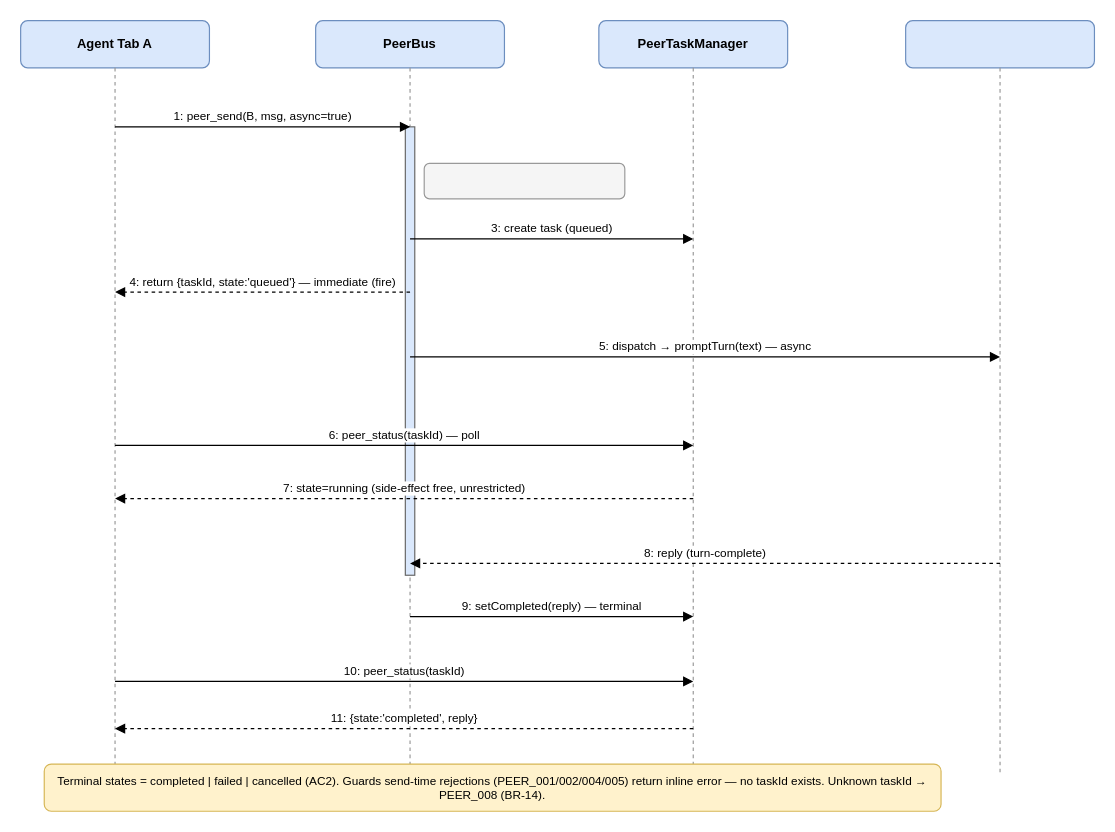
The diagram is 1115 pixels wide and 832 high, and some of its shapes have lost their labels. Here are the shapes that lost their labels. From the top down, the centre of each, then its label:
the point at 999,43: Orchestrator Tab B
the point at 524,180: 2: validate + guards — ONE tick
